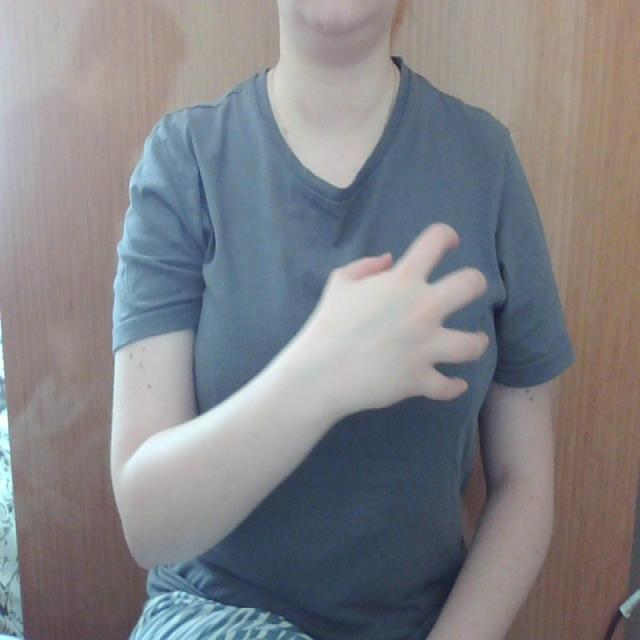Anne: (286, 206, 518, 412)
